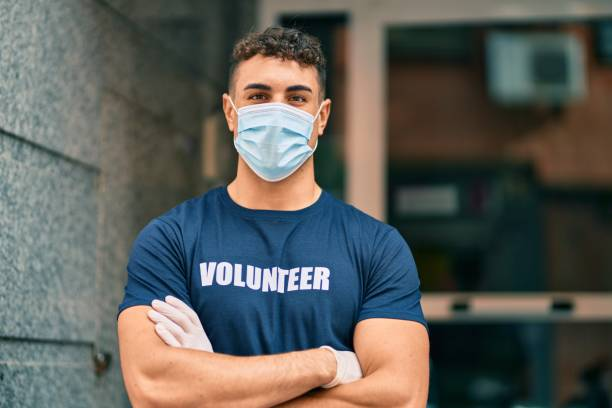with mask: (232, 38, 332, 178)
